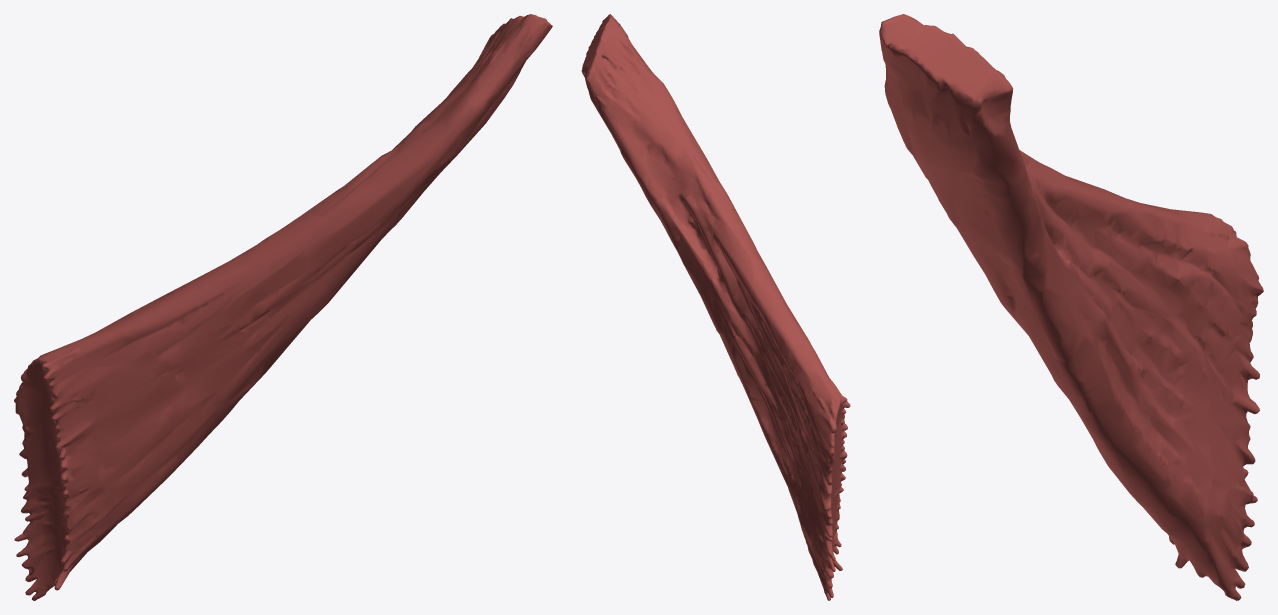
File: FMA43886.glb
The picture shows the model from 3 angles, left to right: view 1: azimuth 30°, elevation 25°; view 2: azimuth 150°, elevation 25°; view 3: azimuth 270°, elevation 25°; orthographic projection. The views are drawn at different scales.
Visible parts, largest first — view 1: FMA43886; view 2: FMA43886; view 3: FMA43886.
Part boxes in pixels (box(x1,y1,x2,y2)): FMA43886: box(14, 14, 552, 600); FMA43886: box(581, 14, 850, 600); FMA43886: box(879, 14, 1263, 600).
Bounding box in the file's own units: 0.0777 × 0.1011 × 0.0401.
